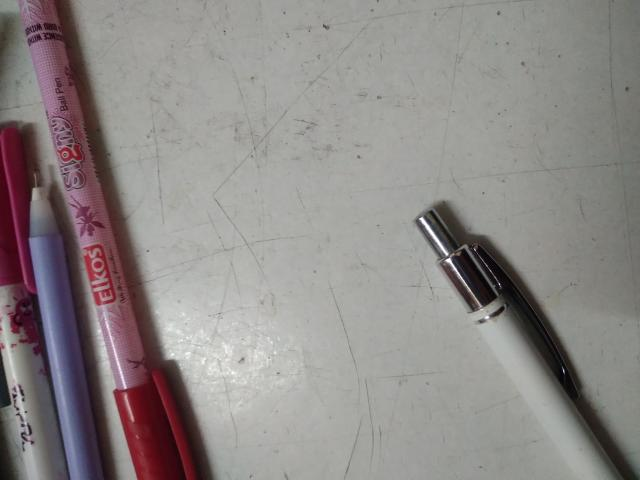PEN: (178, 0, 480, 247), (0, 428, 480, 480)
